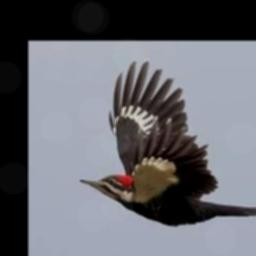Woodpecker: (79, 61, 256, 225)
